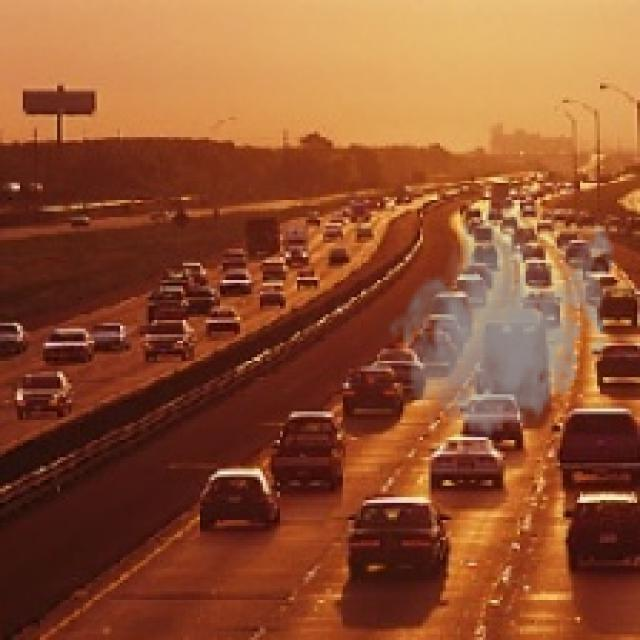Smoke: (386, 188, 620, 446)
